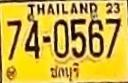0: (53, 19, 68, 57)
4: (24, 17, 39, 58)
5: (70, 18, 85, 57)
6: (88, 19, 103, 56)
7: (6, 20, 21, 60), (105, 17, 120, 57)
CBI: (47, 61, 82, 83)
